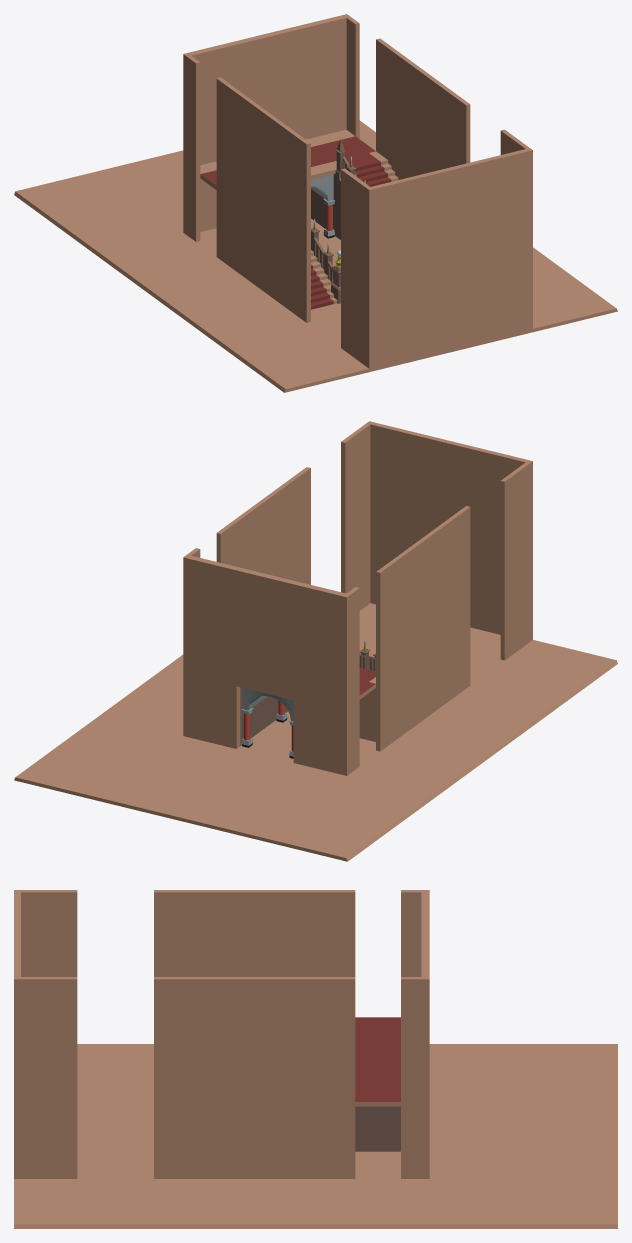
File: Entrance.glb
3 renders of one model, top to bottom at view 1: azimuth 30°, elevation 25°; view 2: azimuth 150°, elevation 25°; view 3: azimuth 270°, elevation 25°, orthographic. The views are drawn at different scales.
Visible parts, largest first — view 1: Hallway.001_col; view 2: Hallway.001_col; view 3: Hallway.001_col.
Boxes of the visible parts, x1,y1,x2,y2 form: Hallway.001_col: [14, 14, 617, 392]; Hallway.001_col: [14, 421, 617, 861]; Hallway.001_col: [14, 890, 617, 1228].
Bounding box in the file's own units: 25.98 × 13.55 × 36.47.
Materials: 1 (1 with a texture image).
